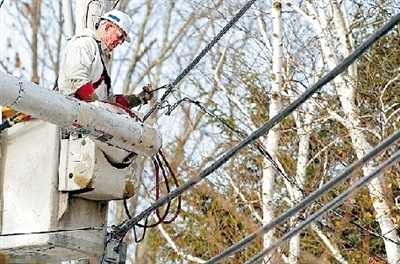white: (94, 7, 134, 50)
